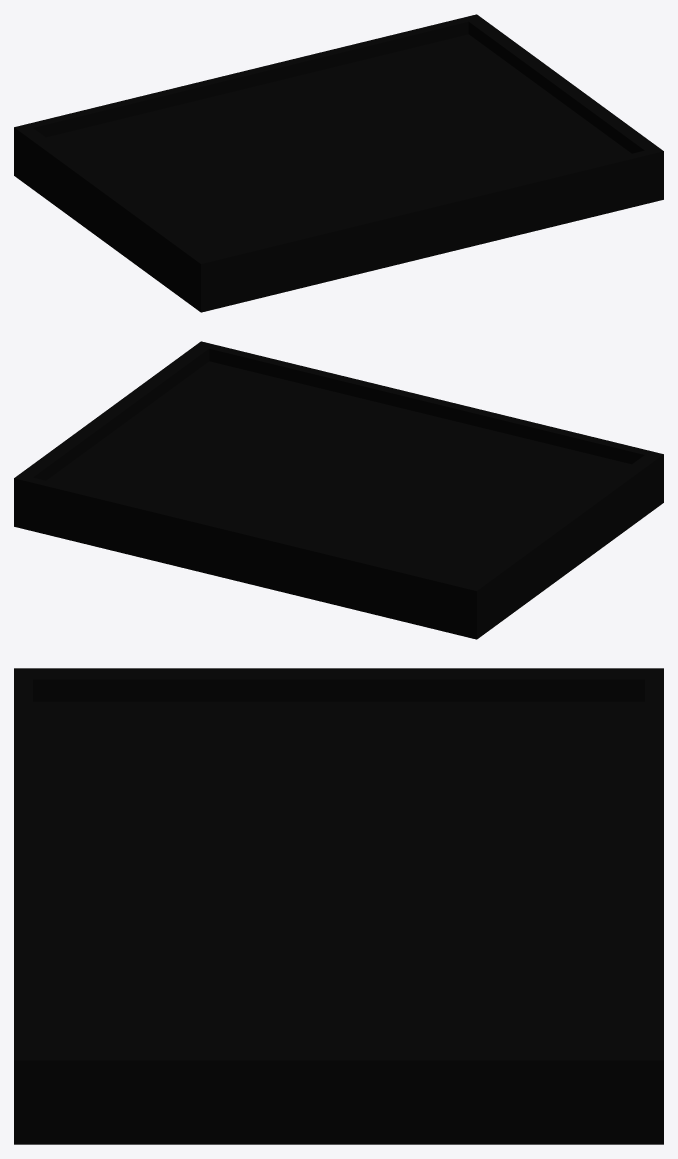
Rendered from tablet.gltf.
3 renders of one model, top to bottom at view 1: azimuth 30°, elevation 25°; view 2: azimuth 150°, elevation 25°; view 3: azimuth 270°, elevation 25°, orthographic. The views are drawn at different scales.
Visible parts, largest first — view 1: Cube; view 2: Cube; view 3: Cube.
Part boxes in pixels (x1,y1,x2,y2): Cube: (14, 14, 663, 312); Cube: (14, 341, 663, 639); Cube: (14, 668, 663, 1144).
Bounding box in the file's own units: 2 × 0.2 × 1.4.
1 material, 1 textured.
